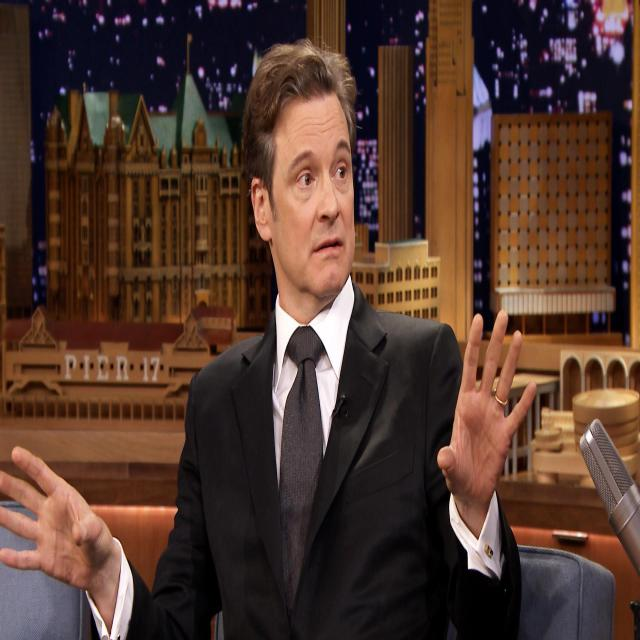no-earmuff: (250, 175, 272, 242)
